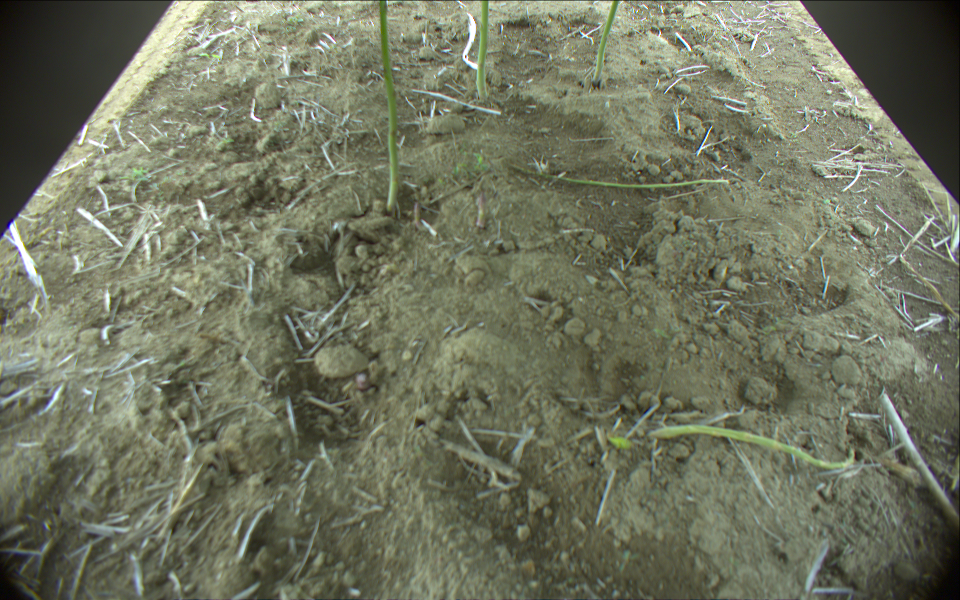aspa: (644, 424, 858, 472), (513, 163, 729, 190), (376, 1, 402, 212), (593, 1, 621, 82), (477, 1, 491, 97)
